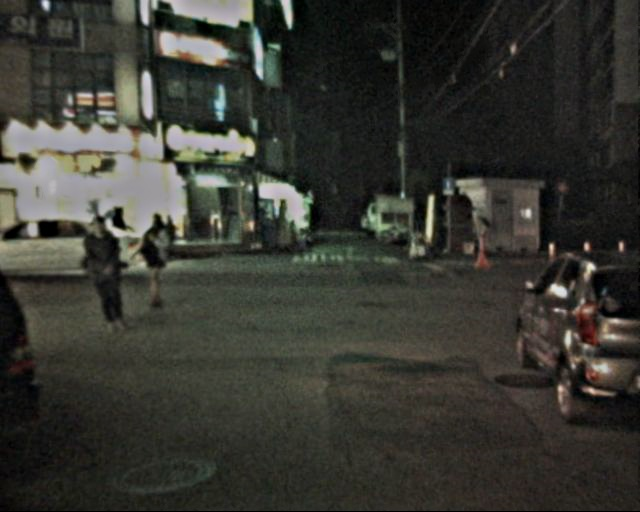person: (83, 211, 133, 332), (136, 207, 176, 312), (466, 206, 487, 258)
